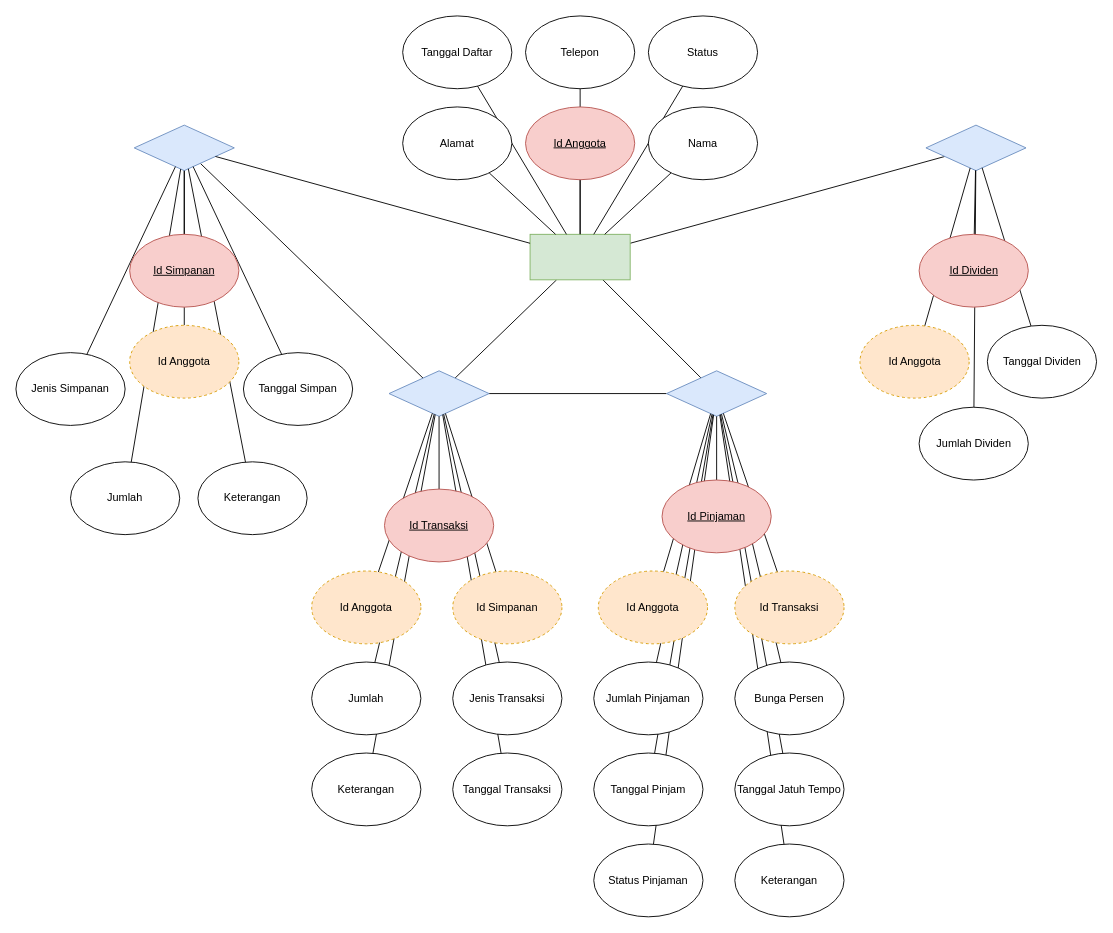
The diagram is 1113 pixels wide and 933 high, and some of its shapes have lost their labels. The centre of each missing label's shape, as x and y in pixels:
Anggota: the point at 579,256
Dividen: the point at 975,147
Pinjaman: the point at 716,393
Simpanan: the point at 183,147
Transaksi: the point at 438,393
